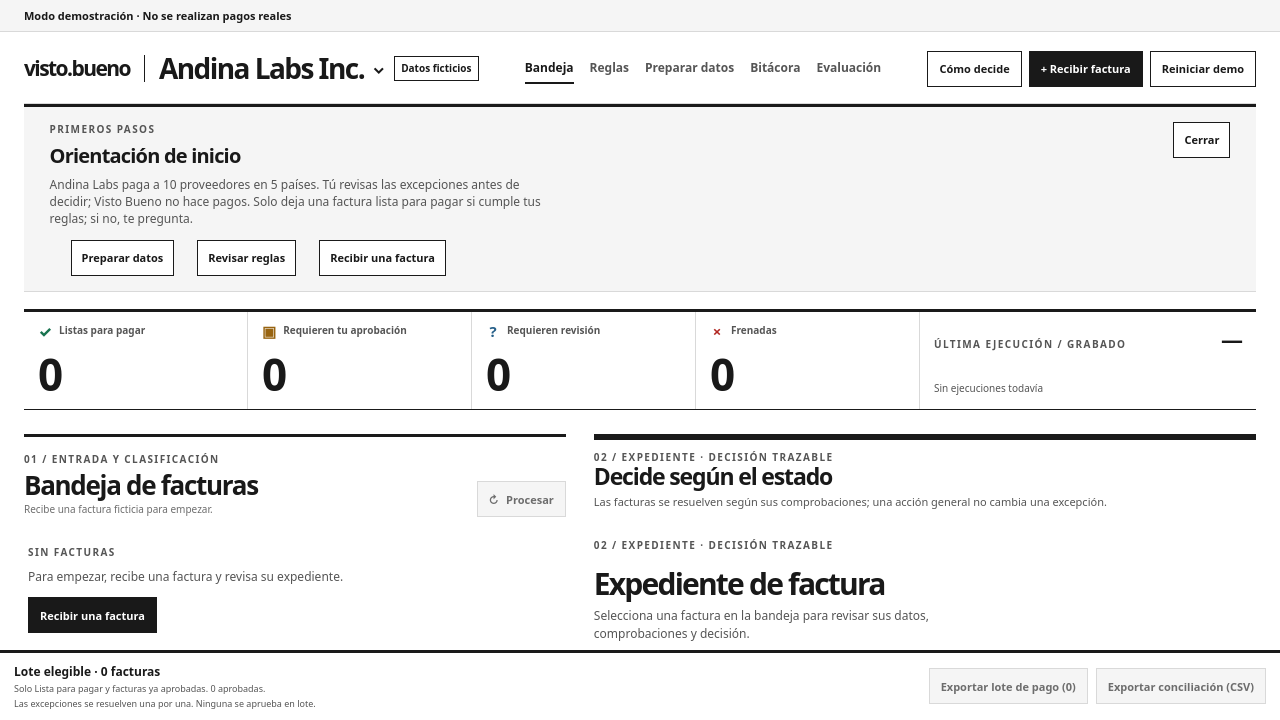
Test: App first-run and evaluation integration › shows three separate unavailable claims for a 503 without inventing metrics
Expected: the heading "Andina Labs Inc. ⌄" is shown, [159,46,385,90]
Step 1. Click the link "Evaluación" → [849, 67], box [816,59,881,76]
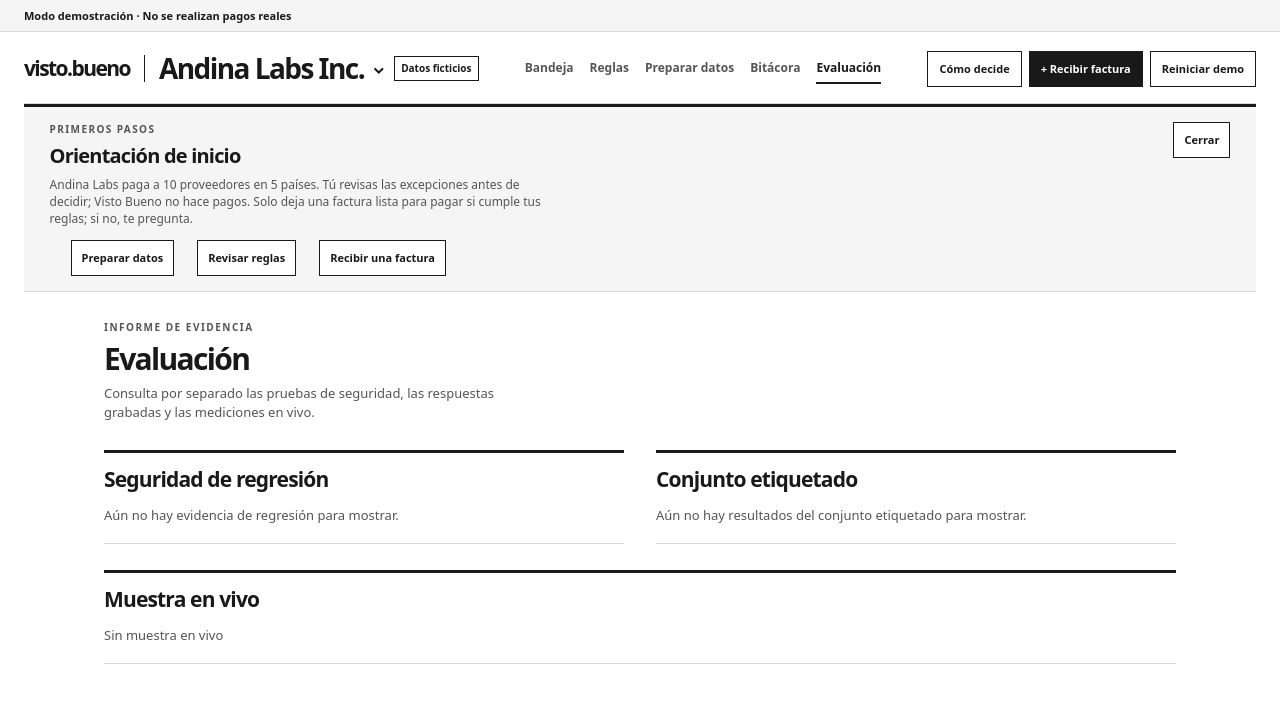
Now the heading "Seguridad de regresión" is shown, box [104,465,328,493]
Now the heading "Conjunto etiquetado" is shown, box [656,465,857,493]
Now the heading "Muestra en vivo" is shown, box [104,585,259,613]
